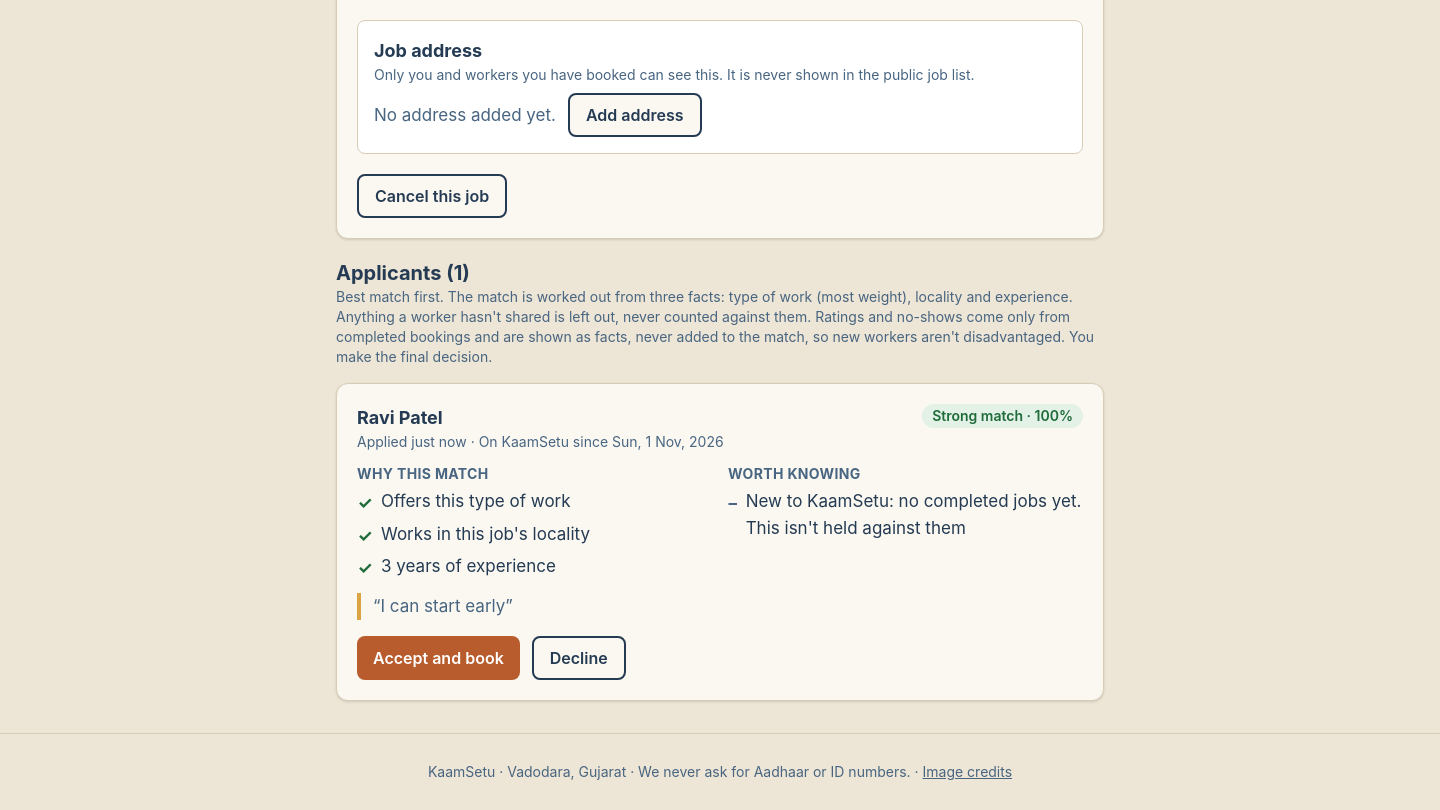
it: applicants: evidence, accept, decline › keeps the error visible when acceptance fails (e.g. job already full)
(page scrolled)
Click the button "Accept and book".
click(438, 658)  # box x1=357 y1=636 x2=520 y2=680
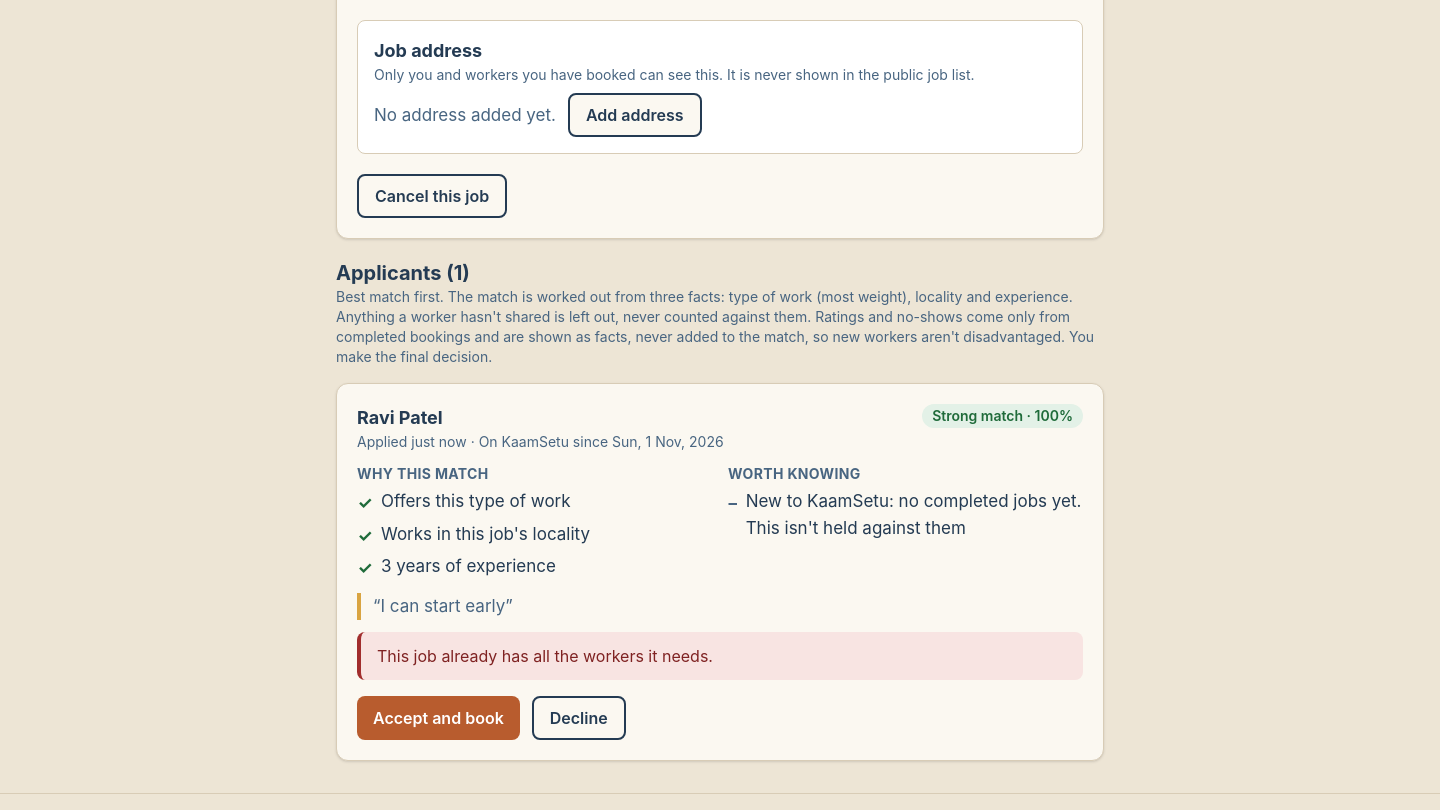
Expected: the button "Accept and book" is enabled, x1=357 y1=696 x2=520 y2=740
Result: the message reads "This job already has all the workers it needs." at x1=377 y1=646 x2=713 y2=666
